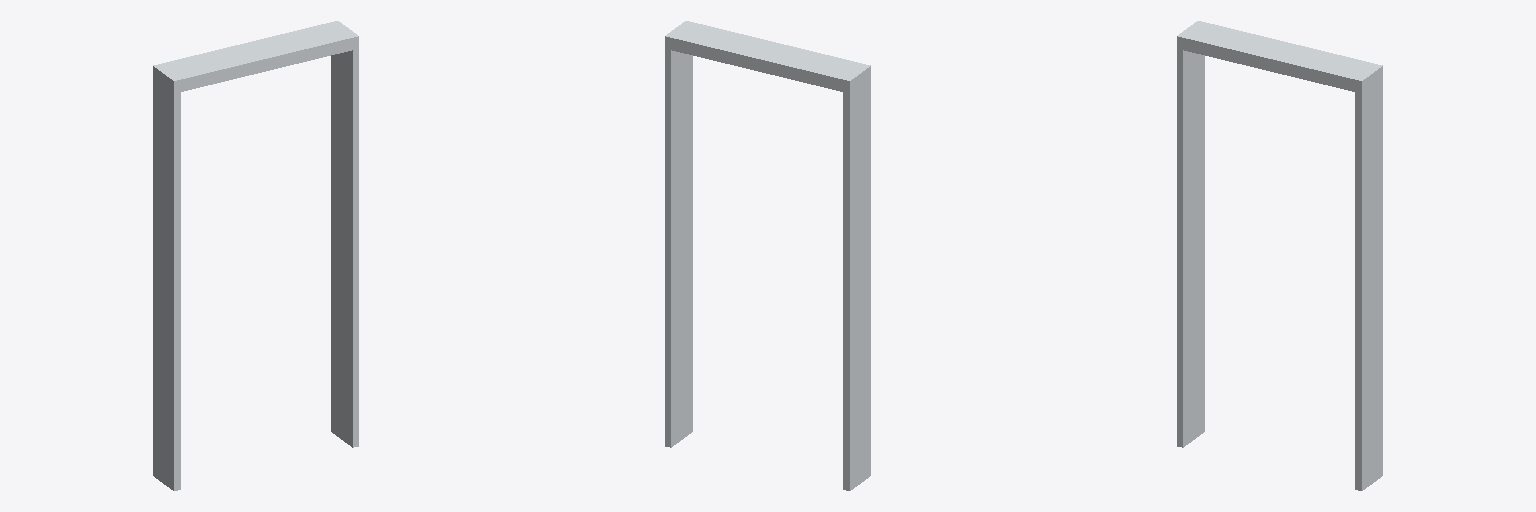
URDF robot description (Door_out):
<?xml version="1.0" encoding="utf-8"?>
<!-- This URDF was automatically created by SolidWorks to URDF Exporter! Originally created by [author] ([email redacted]) 
     Commit Version: 1.5.1-0-g916b5db  Build Version: 1.5.7152.31018
     For more information, please see http://wiki.ros.org/sw_urdf_exporter -->
<robot
  name="Door_out">
  <link
    name="Door_out">
    <inertial>
      <origin
        xyz="-9.131E-16 1.5256364839277E-16 1.3579"
        rpy="0 0 0" />
      <mass
        value="25.078" />
      <inertia
        ixx="12.206"
        ixy="-6.37909999999985E-17"
        ixz="-2.445E-14"
        iyy="16.813"
        iyz="-4.60675056492765E-16"
        izz="4.7746" />
    </inertial>
    <visual>
      <origin
        xyz="0 0 0"
        rpy="1.5707963267949 0 0" />
      <geometry>
        <mesh
          filename="package://Door_out/meshes/Door_out.STL" />
      </geometry>
      <material
        name="">
        <color
          rgba="0.89804 0.91765 0.92941 1" />
        <texture
          filename="package://Door_out/textures/" />
      </material>
    </visual>
    <collision>
      <origin
        xyz="0 0 0"
        rpy="1.5707963267949 0 0" />
      <geometry>
        <mesh
          filename="package://Door_out/meshes/Door_out.STL" />
      </geometry>
    </collision>
  </link>
</robot>

--- Facts derived from the render (not from the file) ---
Views: 3 orthographic renders of the robot side by side, from view 1: azimuth 30°, elevation 25°; view 2: azimuth 150°, elevation 25°; view 3: azimuth 330°, elevation 25°.
Robot: Door_out — 1 links, 0 joints (none); root link Door_out; default pose: all joints at 0.
Links seen in each view (by area): view 1: Door_out; view 2: Door_out; view 3: Door_out.
Boxes of the visible links, <box> form: Door_out: <box>153,21,358,490</box>; Door_out: <box>665,21,870,490</box>; Door_out: <box>1177,21,1382,490</box>.
Bounding box of the posed robot: 1 × 0.2 × 2.12 m (x, y, z).
1 mesh visuals loaded from 1 distinct referenced files (1 binary STL).